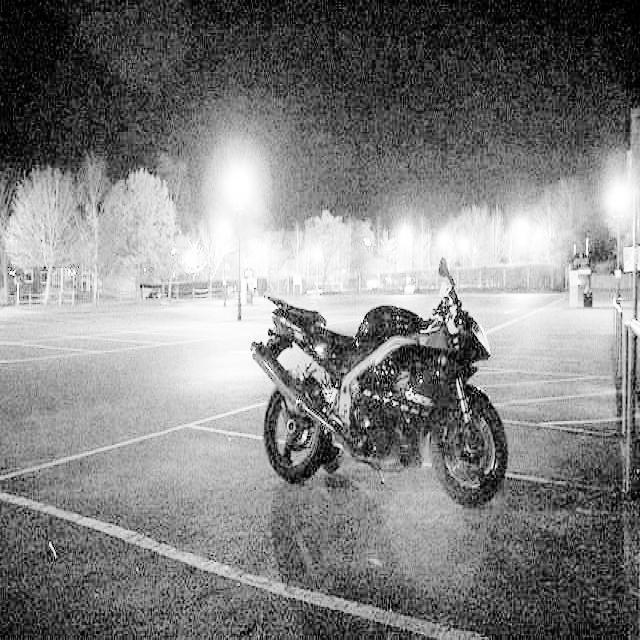Motorcycle: (244, 278, 517, 540)
